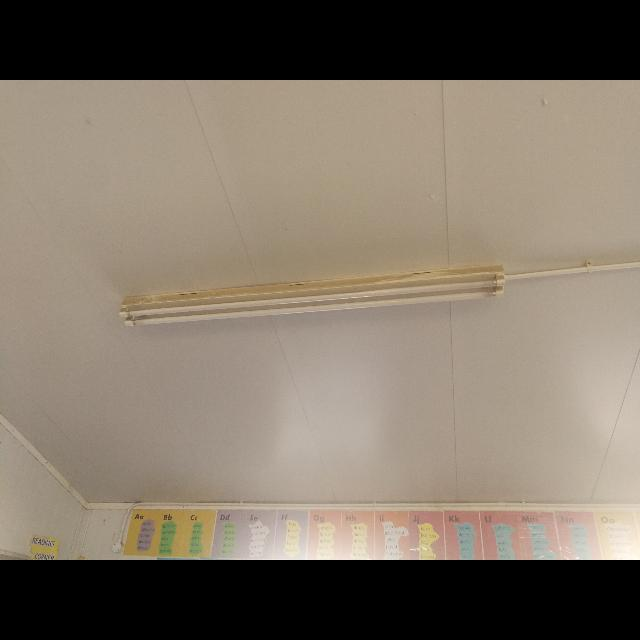Straight-Tube-Fluorescent-Lamp: (107, 254, 529, 350)
